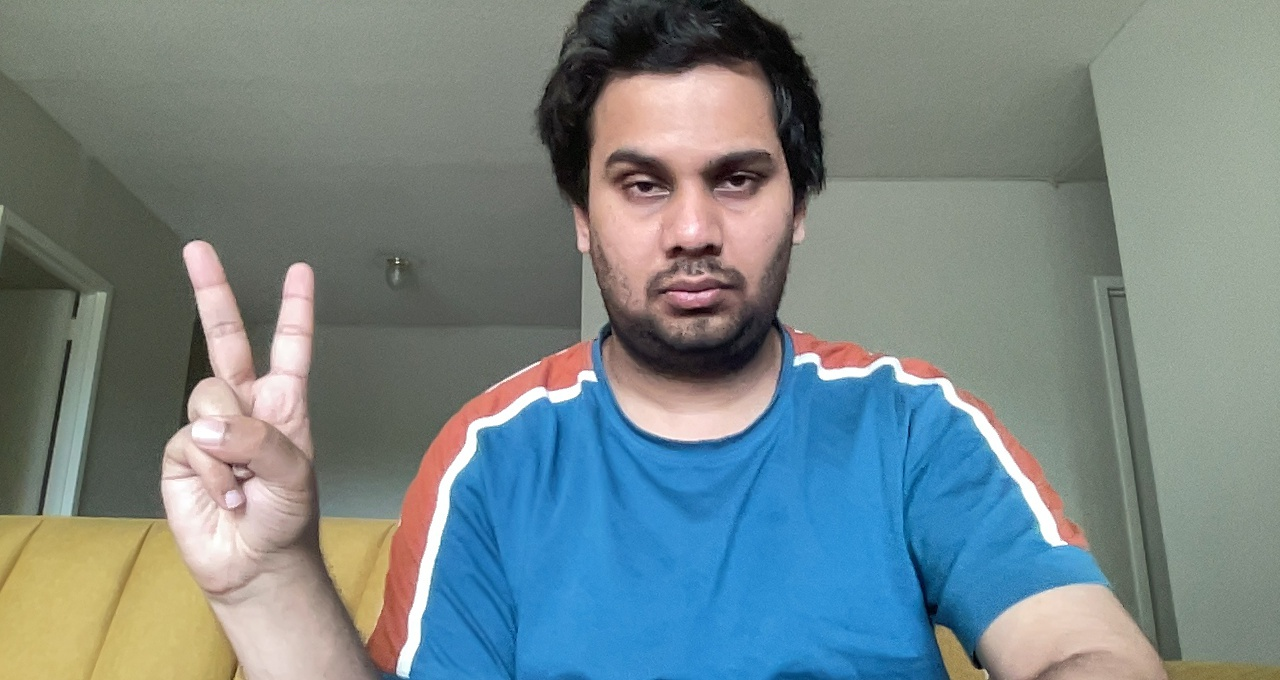peace sign: (145, 235, 334, 595)
